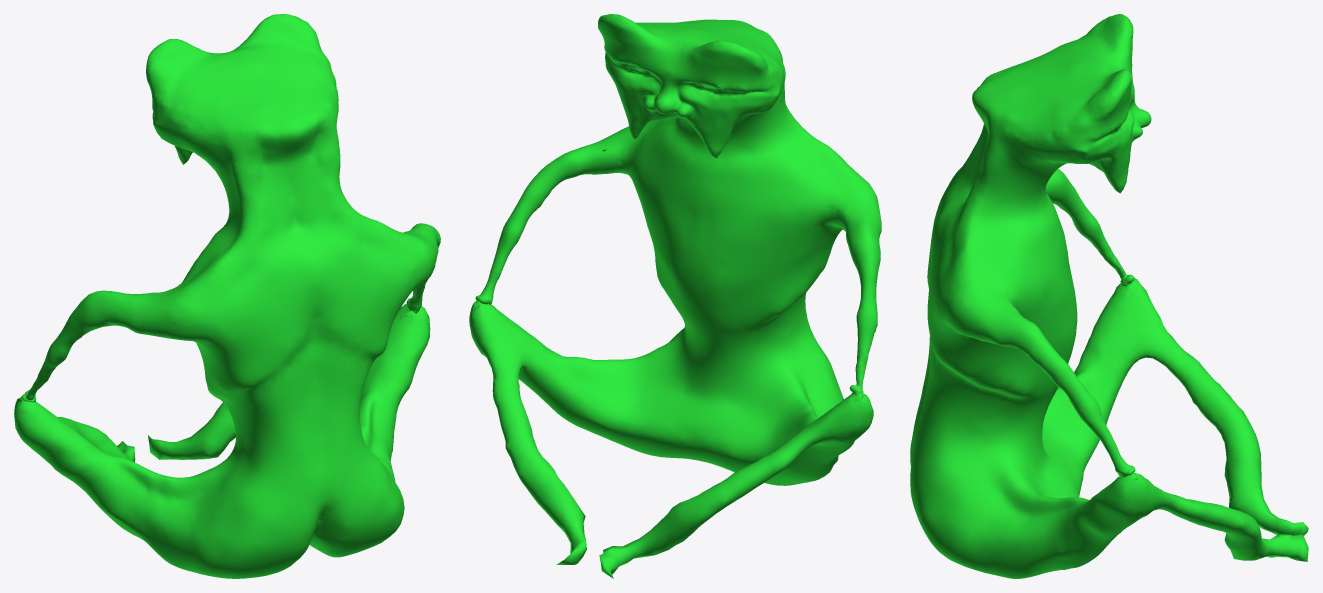
The model's file is Gee.glb.
3 renders of one model, left to right at view 1: azimuth 30°, elevation 25°; view 2: azimuth 150°, elevation 25°; view 3: azimuth 270°, elevation 25°, orthographic. The views are drawn at different scales.
Visible parts, largest first — view 1: Gee; view 2: Gee; view 3: Gee.
Boxes of the visible parts, x1,y1,x2,y2 form: Gee: (14, 14, 440, 578); Gee: (469, 14, 881, 578); Gee: (910, 14, 1308, 578).
Bounding box in the file's own units: 1.17 × 1.34 × 0.9618.
